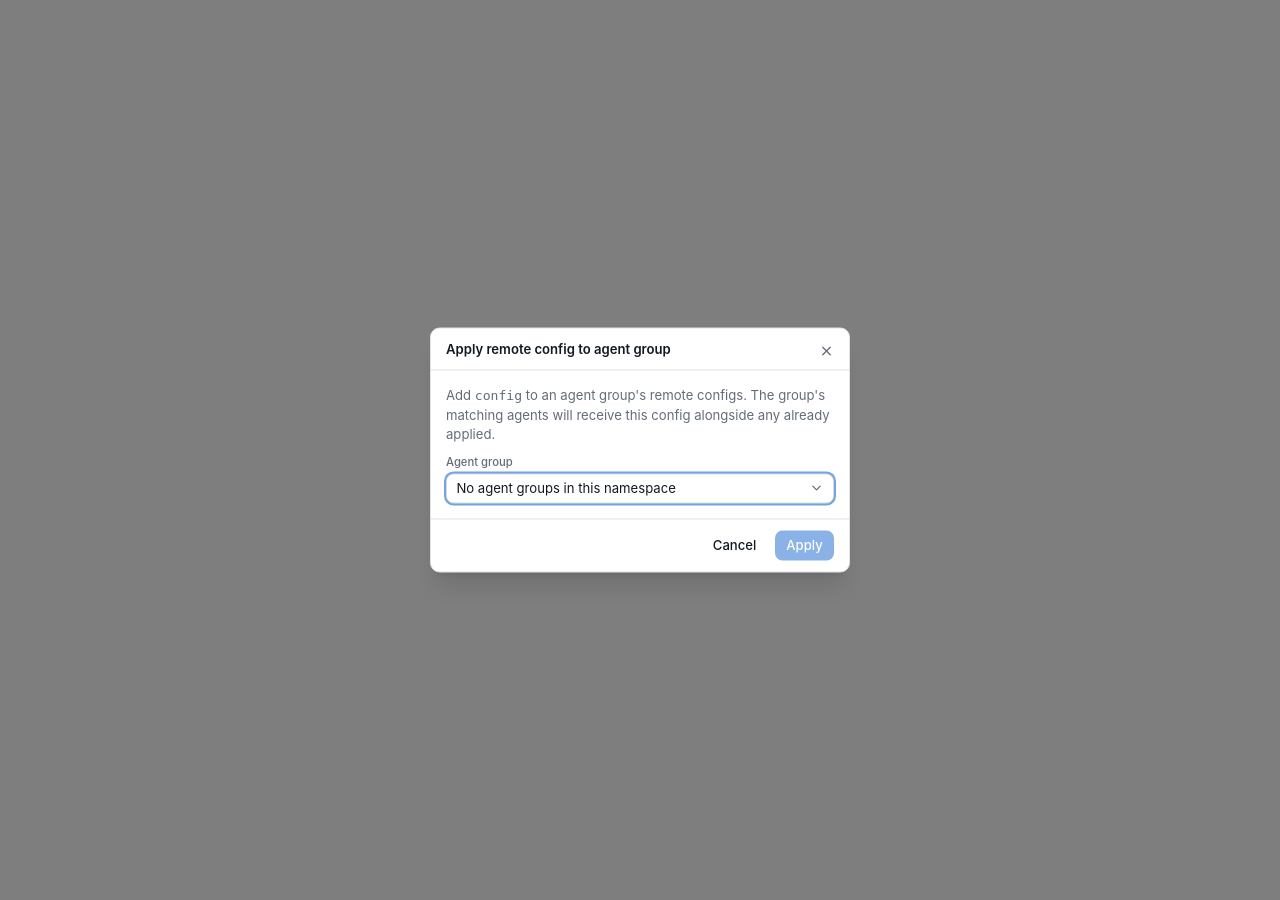
Scenario: shows conflicts without rereading or retrying against a newer revision
Click the dropdown.
click(640, 488)  # box [446,473,834,503]
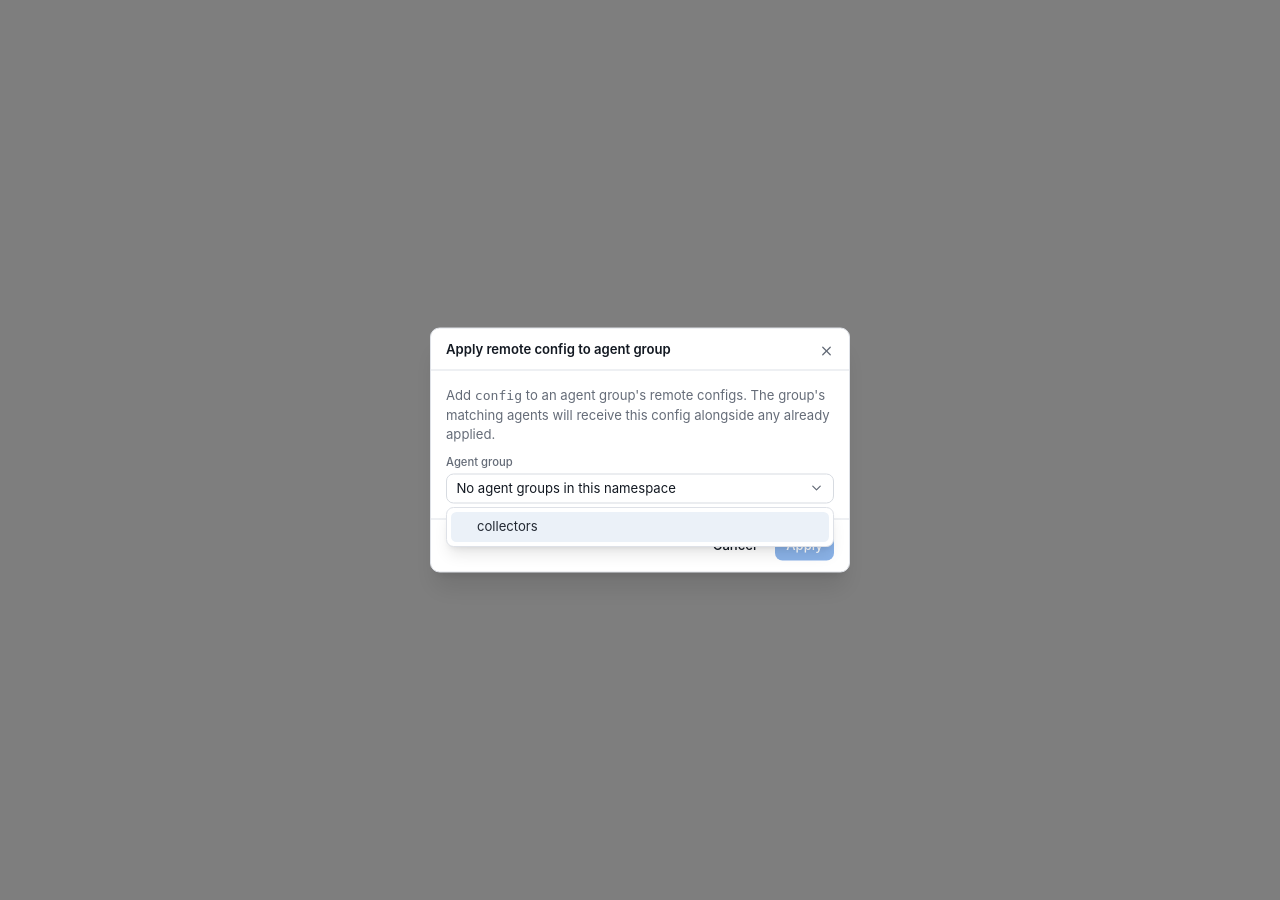
Click the option "collectors".
click(507, 526)  # box [451,512,829,542]
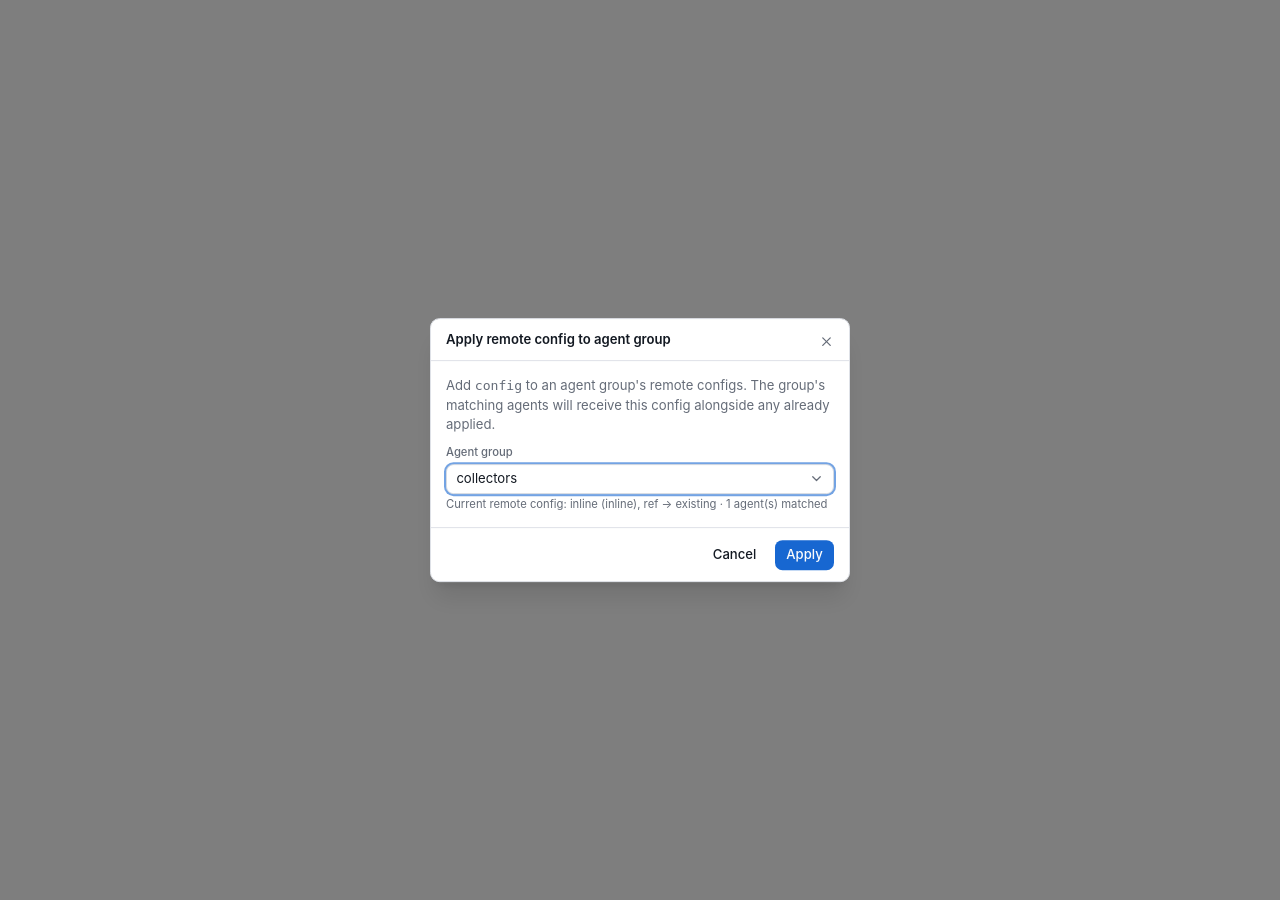
Click the button "Apply".
click(805, 555)  # box [775,540,834,570]
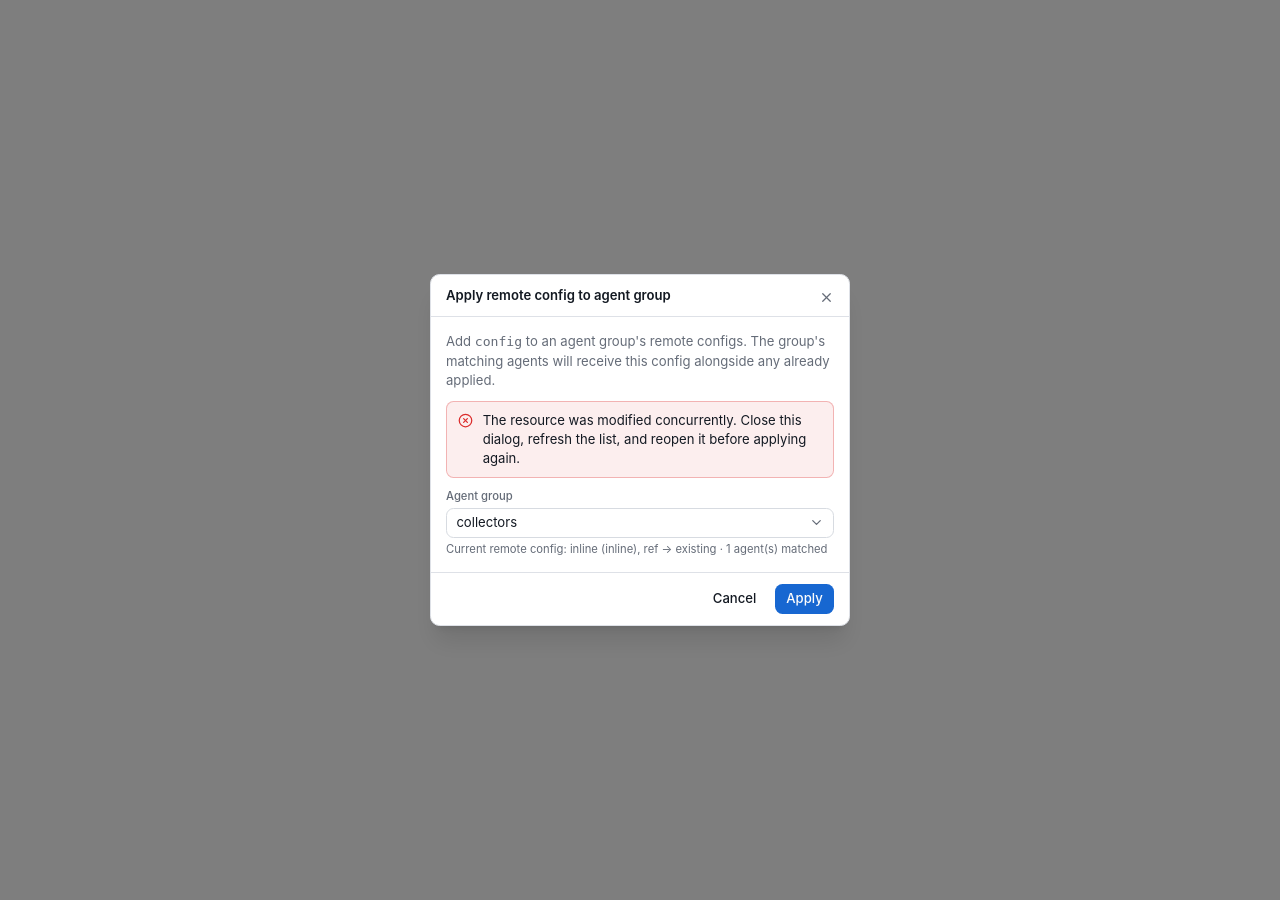
Check: the text "The resource was modified concurrently" is shown, box [483,412,806,466]
